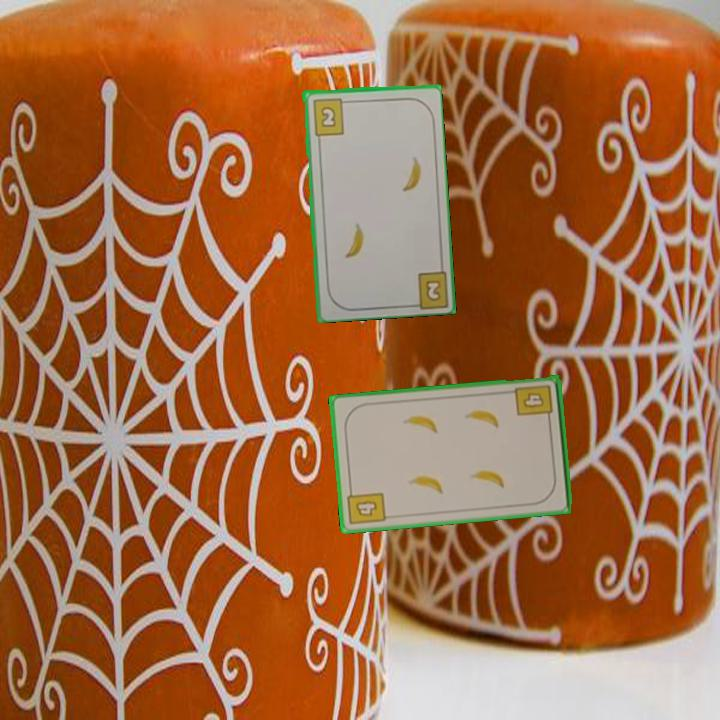2b: (309, 94, 351, 138), (422, 276, 443, 304)
4b: (344, 484, 388, 528), (512, 381, 556, 425)
